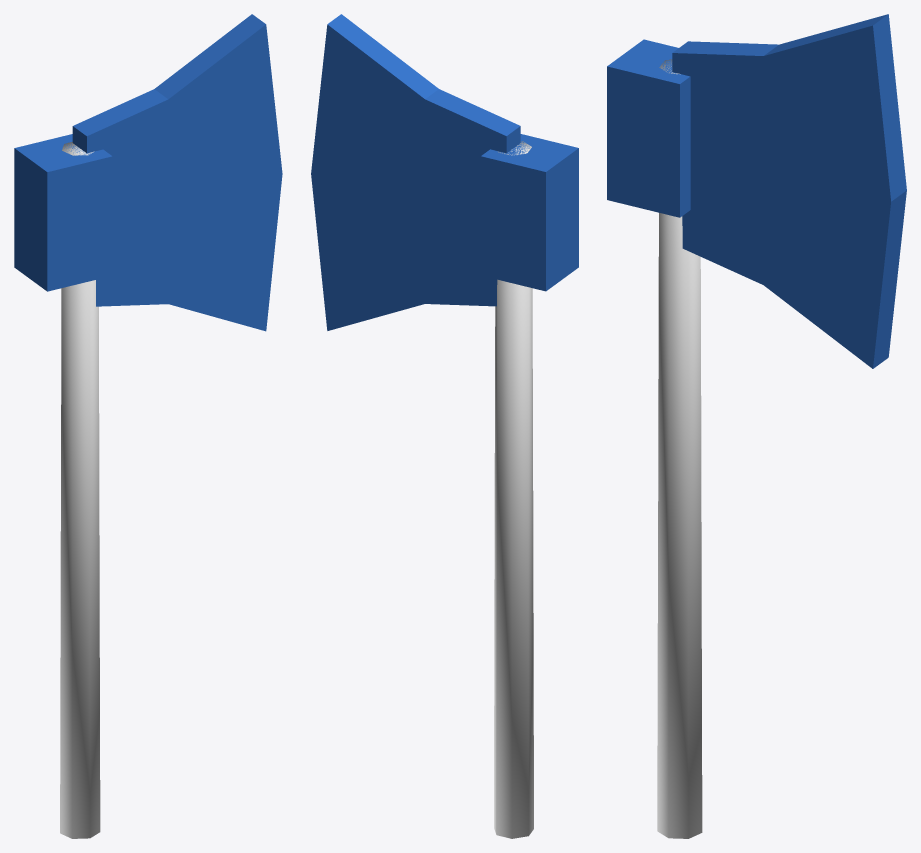
Rendered from cobalt_axe.glb.
The picture shows the model from 3 angles, left to right: view 1: azimuth 30°, elevation 25°; view 2: azimuth 150°, elevation 25°; view 3: azimuth 330°, elevation 25°; orthographic projection. The views are drawn at different scales.
Parts seen in each view (by area): view 1: cobalt_axe_v0; view 2: cobalt_axe_v0; view 3: cobalt_axe_v0.
Boxes of the visible parts, x1,y1,x2,y2 form: cobalt_axe_v0: (14, 14, 282, 838); cobalt_axe_v0: (311, 14, 578, 838); cobalt_axe_v0: (607, 14, 906, 838).
Bounding box in the file's own units: 0.3 × 0.9 × 0.07.
